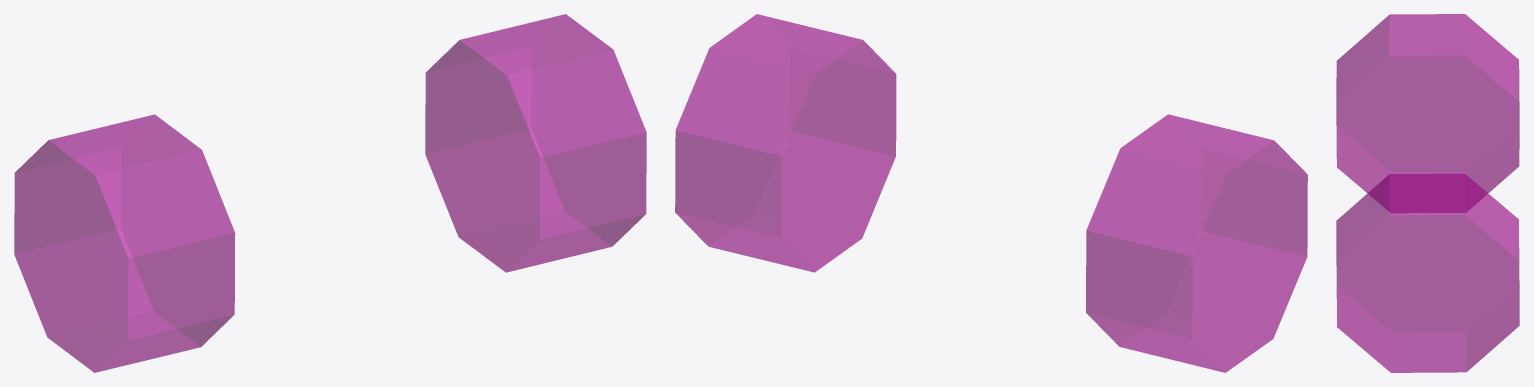
Rendered from SM_Veh_Carnival_Train_01_Carriage_Wheel_01_Collision.fbx.
3 views of the same model, side by side, from view 1: azimuth 30°, elevation 25°; view 2: azimuth 150°, elevation 25°; view 3: azimuth 270°, elevation 25° (orthographic). The views are drawn at different scales.
Visible parts, largest first — view 1: SM_Veh_Carnival_Train_01_Carriage_Wheel_01_Collision; view 2: SM_Veh_Carnival_Train_01_Carriage_Wheel_01_Collision; view 3: SM_Veh_Carnival_Train_01_Carriage_Wheel_01_Collision.
Boxes of the visible parts, x1,y1,x2,y2 form: SM_Veh_Carnival_Train_01_Carriage_Wheel_01_Collision: [14, 14, 646, 372]; SM_Veh_Carnival_Train_01_Carriage_Wheel_01_Collision: [675, 14, 1307, 372]; SM_Veh_Carnival_Train_01_Carriage_Wheel_01_Collision: [1336, 14, 1519, 372].
Size of the model in its own units: 98.98 by 36.28 by 38.16.
